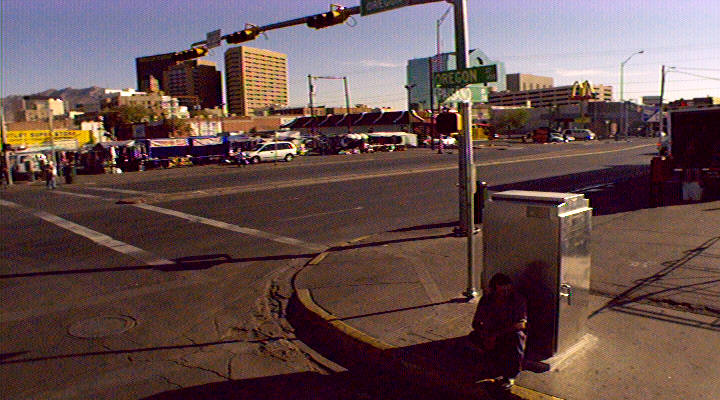Ramp: (286, 243, 441, 341)
